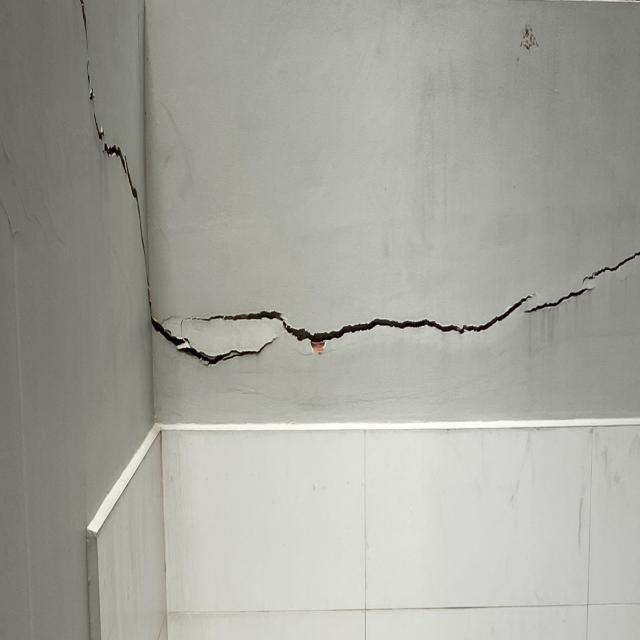Wall_Cracks: (44, 6, 638, 450)
